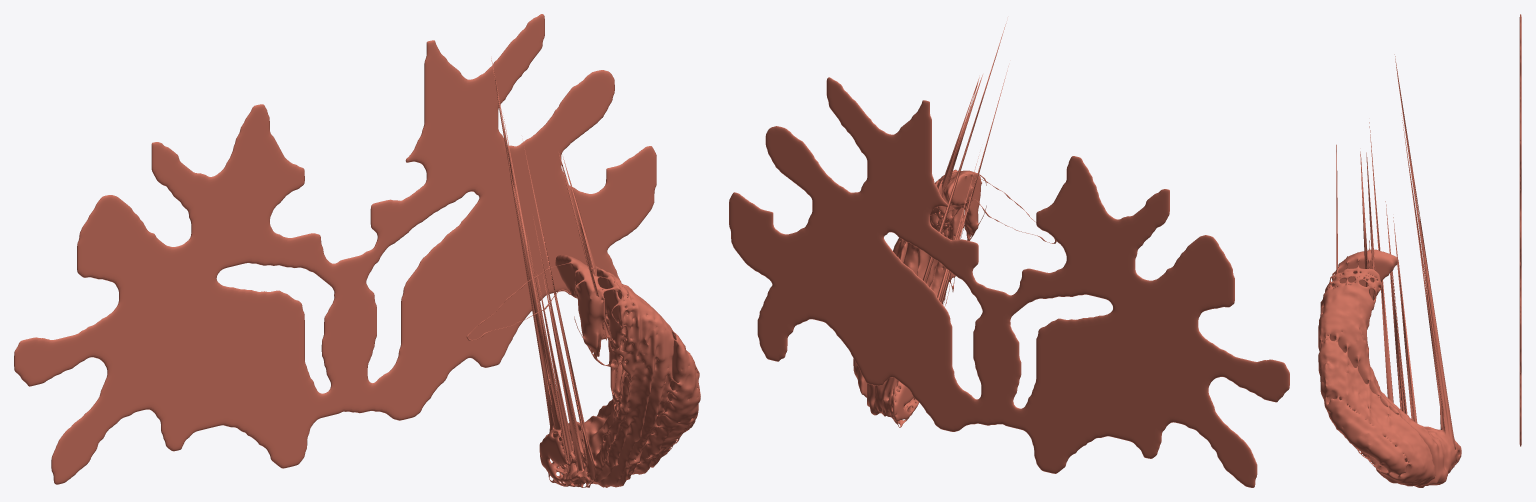
The model's file is hippocampus.glb.
3 renders of one model, left to right at view 1: azimuth 30°, elevation 25°; view 2: azimuth 150°, elevation 25°; view 3: azimuth 270°, elevation 25°, orthographic. The views are drawn at different scales.
Visible parts, largest first — view 1: geometry_0; view 2: geometry_0; view 3: geometry_0.
Boxes of the visible parts, x1,y1,x2,y2 form: geometry_0: (14, 14, 700, 487); geometry_0: (729, 23, 1289, 487); geometry_0: (1318, 14, 1521, 487).
Bounding box in the file's own units: 68.93 × 48.5 × 23.19.
